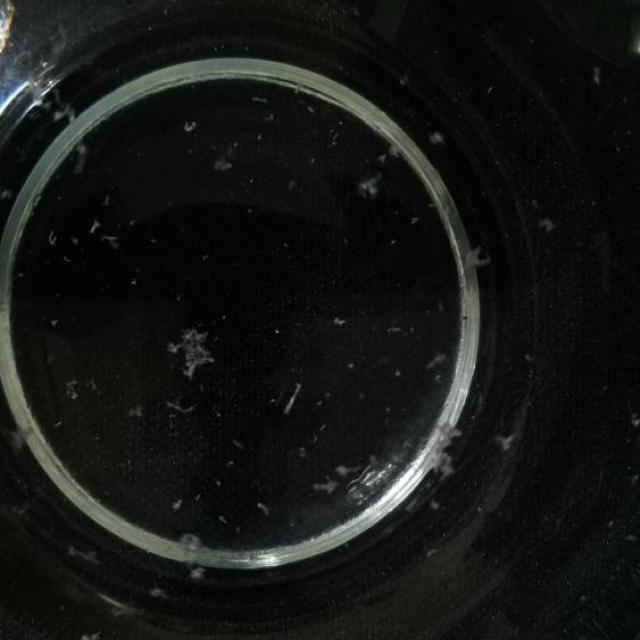fiber: (169, 322, 222, 378), (45, 106, 91, 160), (173, 530, 218, 574), (412, 446, 459, 482), (320, 462, 354, 499), (459, 237, 491, 275), (247, 489, 280, 523), (138, 574, 172, 606), (8, 416, 35, 454), (209, 143, 237, 179), (533, 205, 564, 237), (0, 175, 26, 211), (170, 398, 202, 427), (438, 413, 475, 438), (357, 169, 385, 199), (495, 422, 525, 450), (381, 135, 407, 167), (381, 312, 411, 338), (283, 378, 302, 419), (426, 342, 452, 371), (165, 491, 192, 518), (62, 376, 86, 406), (67, 622, 109, 639), (248, 82, 274, 109), (424, 120, 448, 149), (127, 404, 150, 428), (181, 112, 203, 137), (324, 308, 351, 328), (85, 214, 100, 240)
